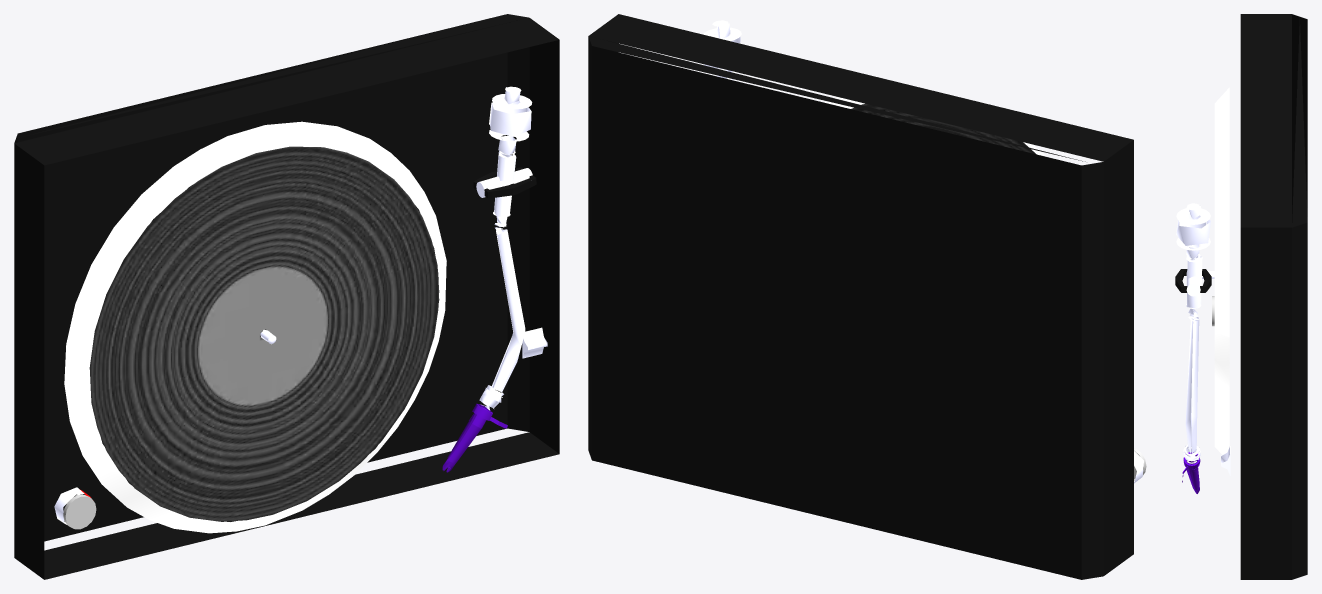
The model's file is record-player.glb.
The picture shows the model from 3 angles, left to right: view 1: azimuth 30°, elevation 25°; view 2: azimuth 150°, elevation 25°; view 3: azimuth 270°, elevation 25°; orthographic projection. The views are drawn at different scales.
Visible parts, largest first — view 1: table_sm, polySurface20, arm_msh, polySurface15, turner_msh, needle_system_msh; view 2: polySurface20, table_sm; view 3: polySurface20, table_sm, arm_msh, turner_msh, needle_system_msh.
Boxes of the visible parts, x1,y1,x2,y2 form: table_sm: [64, 121, 446, 533]; polySurface20: [14, 14, 559, 579]; arm_msh: [479, 86, 532, 410]; polySurface15: [54, 487, 96, 529]; turner_msh: [473, 167, 536, 198]; needle_system_msh: [442, 403, 507, 472]; polySurface20: [588, 14, 1133, 579]; table_sm: [824, 97, 1046, 156]; polySurface20: [1240, 14, 1307, 579]; table_sm: [1202, 87, 1229, 454]; arm_msh: [1176, 203, 1210, 463]; turner_msh: [1175, 269, 1211, 296]; needle_system_msh: [1182, 452, 1200, 493].
Size of the model in its own units: 63.32 by 48.67 by 16.58.
8 materials, 1 textured.
